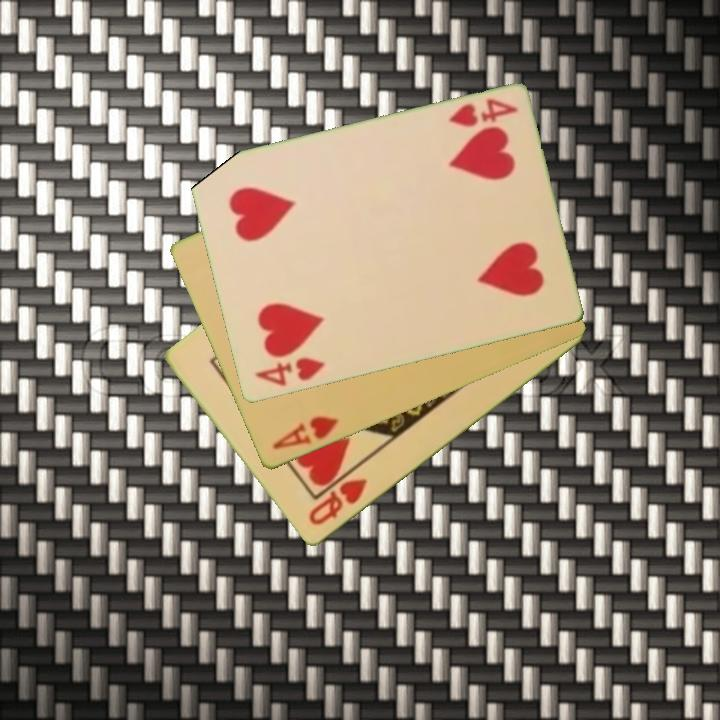4h: (444, 95, 521, 131), (251, 354, 327, 390)
Ah: (269, 413, 341, 453)
Qh: (304, 475, 371, 529)
